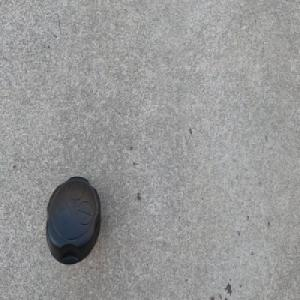FuelCap: (43, 173, 101, 265)
